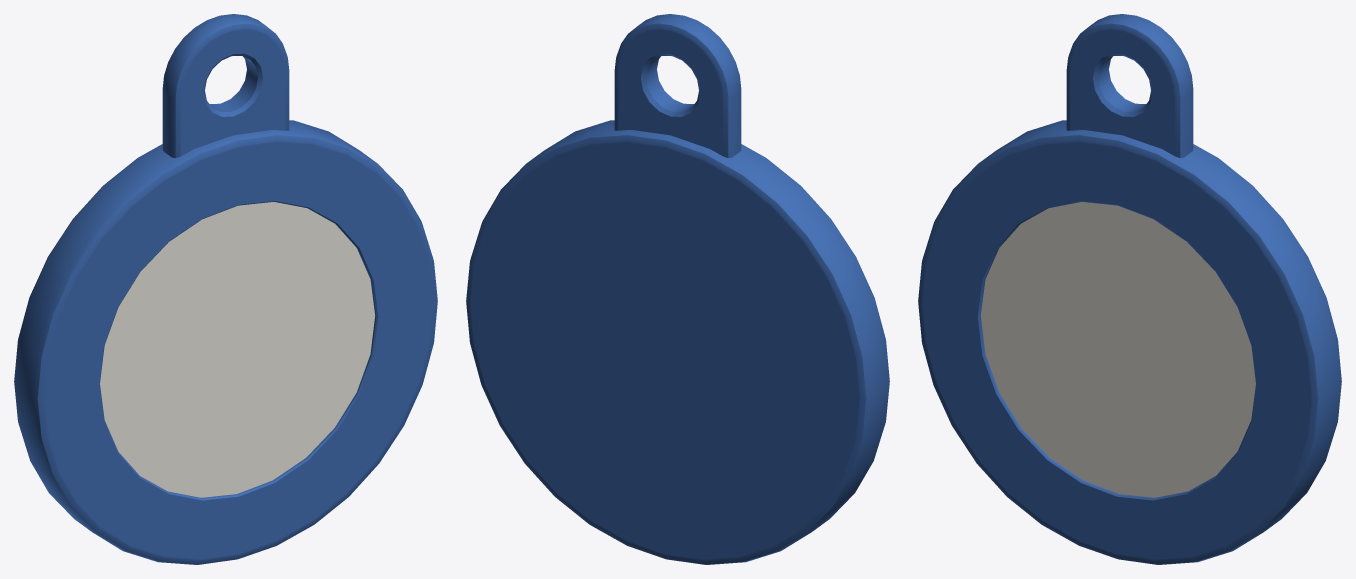
The model's file is Kit_KeyTag_Round_Blue.fbx.
3 views of the same model, side by side, from view 1: azimuth 30°, elevation 25°; view 2: azimuth 150°, elevation 25°; view 3: azimuth 330°, elevation 25° (orthographic).
Parts seen in each view (by area): view 1: Kit_KeyTag_Round_LOD0; view 2: Kit_KeyTag_Round_LOD0; view 3: Kit_KeyTag_Round_LOD0.
Part boxes in pixels (x1,y1,x2,y2): Kit_KeyTag_Round_LOD0: [14, 14, 437, 564]; Kit_KeyTag_Round_LOD0: [466, 14, 889, 564]; Kit_KeyTag_Round_LOD0: [918, 14, 1341, 564].
Size of what is drawn, in the model's own units: 0.038 by 0.048 by 0.0042.
